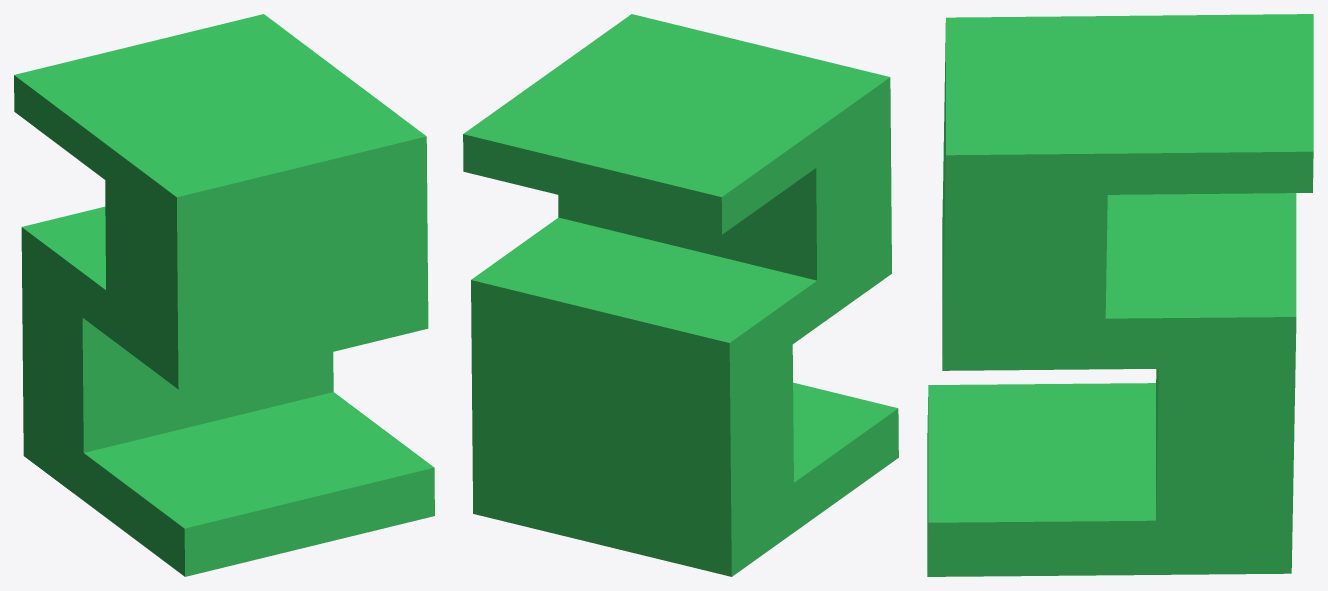
Rendered from Savepoint_VK.fbx.
The picture shows the model from 3 angles, left to right: view 1: azimuth 30°, elevation 25°; view 2: azimuth 150°, elevation 25°; view 3: azimuth 270°, elevation 25°; orthographic projection. The views are drawn at different scales.
Visible parts, largest first — view 1: Cube; view 2: Cube; view 3: Cube.
Boxes of the visible parts, bbox=[...] form: Cube: bbox=[14, 14, 434, 576]; Cube: bbox=[463, 14, 898, 576]; Cube: bbox=[927, 14, 1313, 576].
Size of the model in its own units: 100 by 144 by 119.
